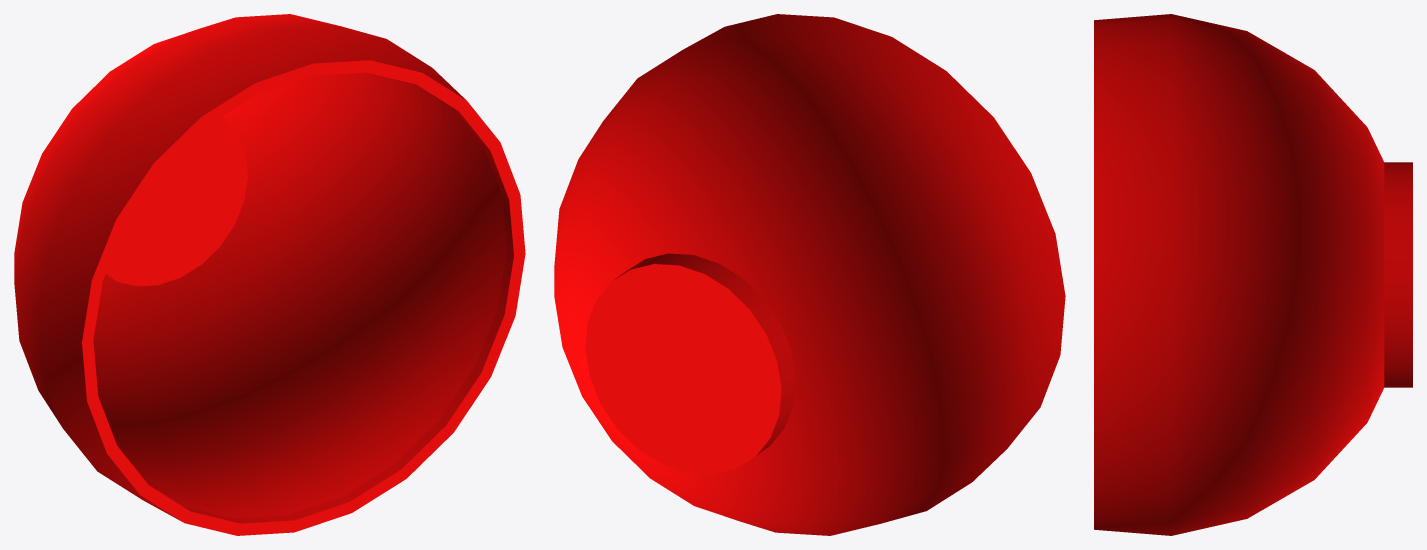
File: model_scale.obj
3 views of the same model, side by side, from view 1: azimuth 30°, elevation 25°; view 2: azimuth 150°, elevation 25°; view 3: azimuth 270°, elevation 25° (orthographic).
Visible parts, largest first — view 1: mesh1_mesh1-geometry; view 2: mesh1_mesh1-geometry; view 3: mesh1_mesh1-geometry.
Part boxes in pixels (box(x1,y1,x2,y2)): mesh1_mesh1-geometry: box(14, 14, 525, 535); mesh1_mesh1-geometry: box(554, 14, 1065, 535); mesh1_mesh1-geometry: box(1094, 14, 1412, 535).
Bounding box in the file's own units: 0.143 × 0.143 × 0.0873.
